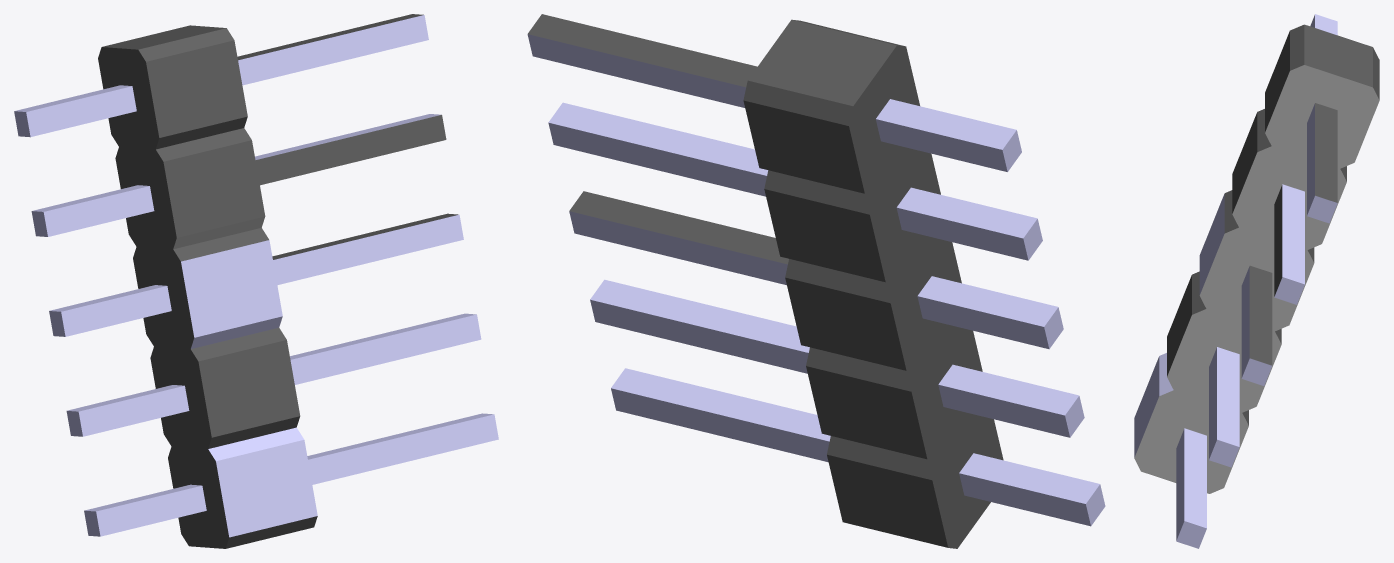
File: EBoxNewAsm_stp_1_IMC413_stp_1_IMC413_2_stp_1_solid1.obj
3 renders of one model, left to right at view 1: azimuth 30°, elevation 25°; view 2: azimuth 150°, elevation 25°; view 3: azimuth 270°, elevation 25°, orthographic. The views are drawn at different scales.
Parts seen in each view (by area): view 1: mesh16120, mesh16101, mesh16095, mesh16098, mesh16092, mesh16104, mesh16065, mesh16071, mesh16076, mesh16080, mesh16085, mesh16121 (+20 smaller); view 2: mesh16120, mesh16106, mesh16114, mesh16119, mesh16088, mesh16111, mesh16108, mesh16083, mesh16064, mesh16070, mesh16078, mesh16075 (+20 smaller); view 3: mesh16067, mesh16106, mesh16075, mesh16078, mesh16064, mesh16070, mesh16083, mesh16092, mesh16098, mesh16101, mesh16095, mesh16104 (+16 smaller).
Part boxes in pixels (x1=…): mesh16120: x1=98, y1=47, x2=229, y2=548; mesh16101: x1=163, y1=140, x2=265, y2=237; mesh16095: x1=198, y1=340, x2=300, y2=437; mesh16098: x1=181, y1=240, x2=282, y2=337; mesh16092: x1=216, y1=440, x2=317, y2=537; mesh16104: x1=146, y1=40, x2=247, y2=137; mesh16065: x1=308, y1=414, x2=498, y2=484; mesh16071: x1=290, y1=314, x2=481, y2=384; mesh16076: x1=273, y1=214, x2=463, y2=285; mesh16080: x1=255, y1=115, x2=446, y2=185; mesh16085: x1=238, y1=15, x2=428, y2=85; mesh16121: x1=96, y1=485, x2=206, y2=536; mesh16120: x1=849, y1=45, x2=1003, y2=548; mesh16106: x1=748, y1=19, x2=896, y2=105; mesh16114: x1=785, y1=277, x2=906, y2=370; mesh16119: x1=806, y1=366, x2=927, y2=459; mesh16088: x1=827, y1=454, x2=947, y2=547; mesh16111: x1=764, y1=189, x2=885, y2=282; mesh16108: x1=743, y1=100, x2=864, y2=193; mesh16083: x1=528, y1=14, x2=757, y2=87; mesh16064: x1=611, y1=368, x2=830, y2=441; mesh16070: x1=590, y1=279, x2=809, y2=352; mesh16078: x1=548, y1=102, x2=768, y2=175; mesh16075: x1=569, y1=191, x2=788, y2=264; mesh16067: x1=1134, y1=65, x2=1379, y2=493; mesh16106: x1=1304, y1=24, x2=1372, y2=87; mesh16075: x1=1249, y1=265, x2=1272, y2=365; mesh16078: x1=1282, y1=184, x2=1304, y2=284; mesh16064: x1=1184, y1=428, x2=1206, y2=528; mesh16070: x1=1217, y1=347, x2=1239, y2=446; mesh16083: x1=1315, y1=103, x2=1337, y2=202; mesh16092: x1=1134, y1=356, x2=1159, y2=457; mesh16098: x1=1199, y1=194, x2=1224, y2=294; mesh16101: x1=1232, y1=112, x2=1257, y2=213; mesh16095: x1=1167, y1=275, x2=1191, y2=376; mesh16104: x1=1265, y1=31, x2=1289, y2=132.
Size of the model in its own units: 0.0114 by 0.0126 by 0.00653.
